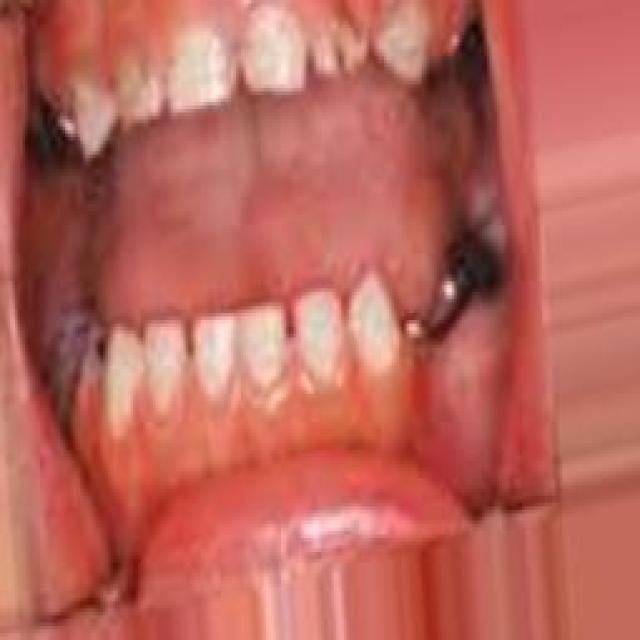caries: (302, 7, 373, 87), (404, 272, 468, 354)
